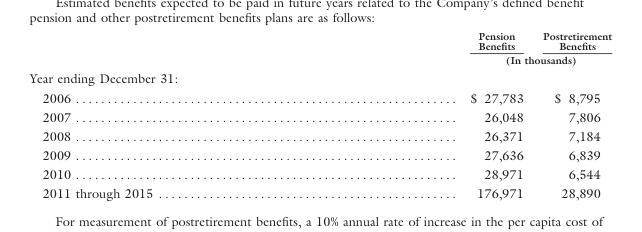table: (28, 28, 611, 200)
table column: (28, 28, 462, 200), (532, 28, 611, 200), (462, 28, 532, 200)
table column header: (28, 28, 611, 68)
table projected row header: (28, 68, 611, 87)
table row: (28, 28, 611, 52), (28, 144, 611, 164), (28, 68, 611, 87), (28, 87, 611, 106), (28, 106, 611, 125), (28, 125, 611, 144), (28, 164, 611, 183), (28, 183, 611, 200), (28, 52, 611, 68)
table spanning cell: (462, 52, 611, 68)
